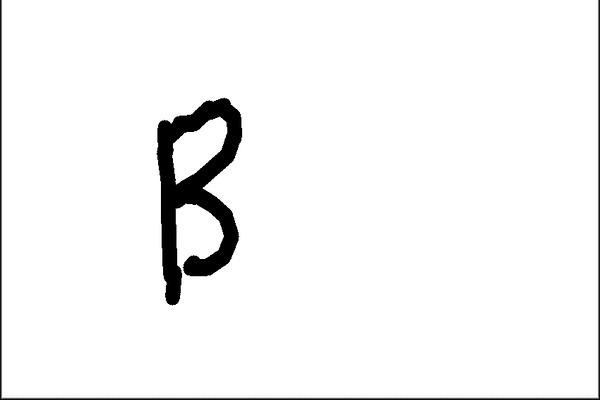B: (148, 92, 244, 307)
